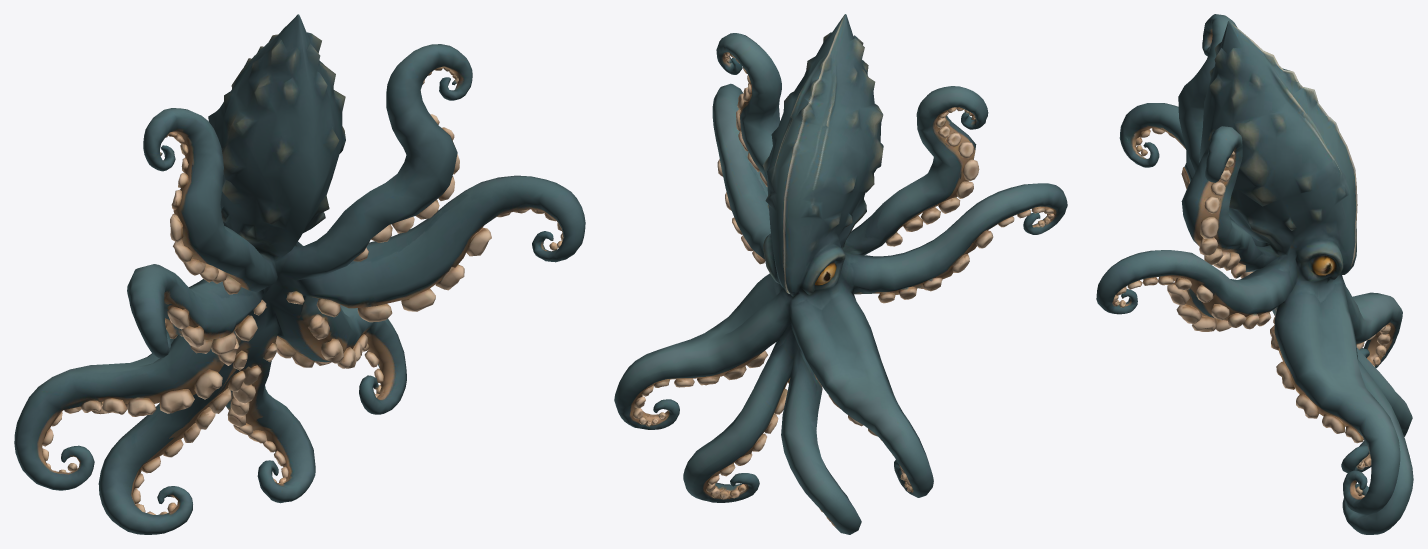
Rendered from kraken.glb.
3 renders of one model, left to right at view 1: azimuth 30°, elevation 25°; view 2: azimuth 150°, elevation 25°; view 3: azimuth 270°, elevation 25°, orthographic. The views are drawn at different scales.
Visible parts, largest first — view 1: tripo_node_a0ce1e1d-81ba-4258-a10e-8402efff78e4; view 2: tripo_node_a0ce1e1d-81ba-4258-a10e-8402efff78e4; view 3: tripo_node_a0ce1e1d-81ba-4258-a10e-8402efff78e4.
Part boxes in pixels (left/top/right/bottom): tripo_node_a0ce1e1d-81ba-4258-a10e-8402efff78e4: left=14, top=14, right=585, bottom=534; tripo_node_a0ce1e1d-81ba-4258-a10e-8402efff78e4: left=614, top=14, right=1067, bottom=534; tripo_node_a0ce1e1d-81ba-4258-a10e-8402efff78e4: left=1096, top=14, right=1413, bottom=534.
Bounding box in the file's own units: 4.8 × 5.94 × 3.55.
1 material, 1 textured.
